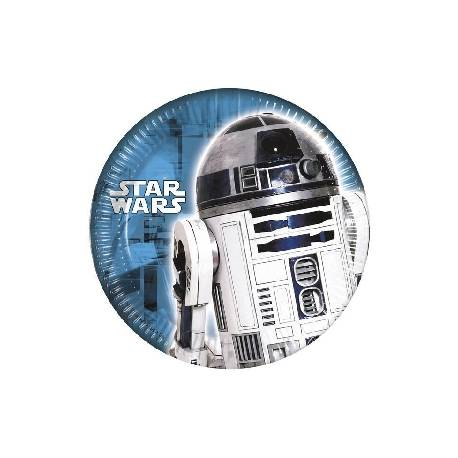r2d2: (182, 113, 349, 328)
